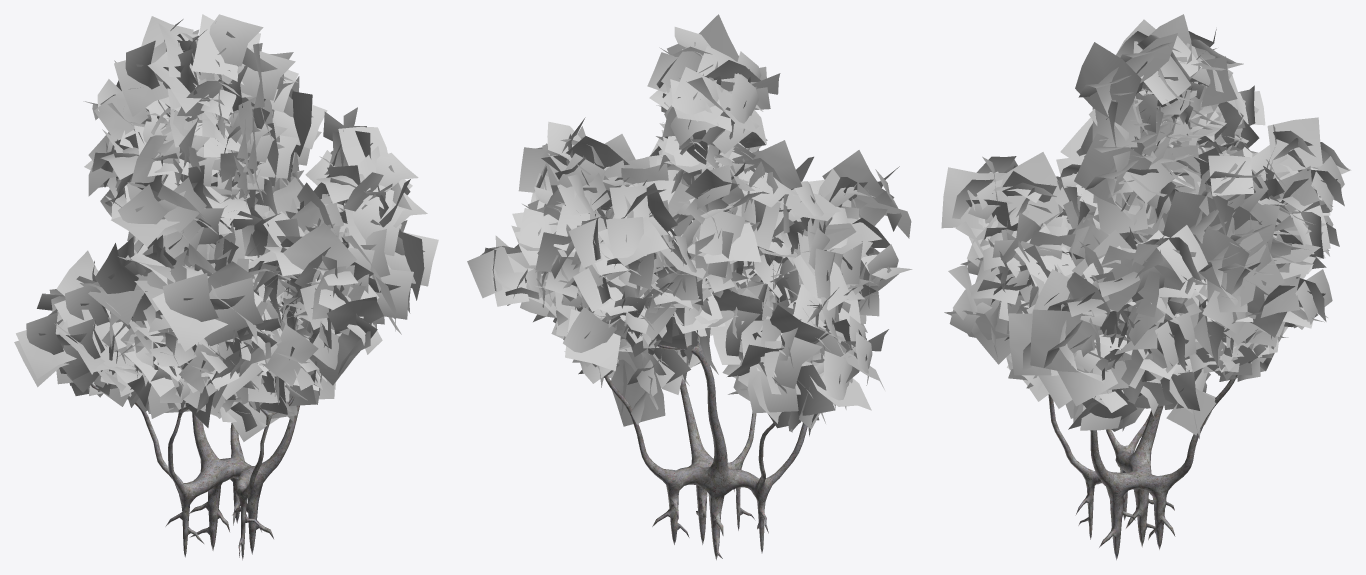
The model's file is Tree17.fbx.
3 views of the same model, side by side, from view 1: azimuth 30°, elevation 25°; view 2: azimuth 150°, elevation 25°; view 3: azimuth 270°, elevation 25° (orthographic).
Parts seen in each view (by area): view 1: tree17, tree17|branch17-3|Dupli|15, tree17|branch17-3|Dupli|78, tree17|branch17-2|Dupli|193, tree17|branch17-3|Dupli|150, tree17|branch17-3|Dupli|57, tree17|branch17-3|Dupli|171, tree17|branch17-3|Dupli|117, tree17|branch17-2|Dupli|16, tree17|branch17-3|Dupli|153, tree17|branch17-1|Dupli|2, tree17|branch17-1|Dupli|164 (+48 smaller); view 2: tree17, tree17|branch17-2|Dupli|172, tree17|branch17-3|Dupli|24, tree17|branch17-1|Dupli|32, tree17|branch17-1|Dupli|53, tree17|branch17-2|Dupli|130, tree17|branch17-3|Dupli|27, tree17|branch17-2|Dupli|175, tree17|branch17-3|Dupli|153, tree17|branch17-3|Dupli|51, tree17|branch17-3|Dupli|48, tree17|branch17-1|Dupli|125 (+49 smaller); view 3: tree17, tree17|branch17-3|Dupli|78, tree17|branch17-3|Dupli|117, tree17|branch17-1|Dupli|2, tree17|branch17-3|Dupli|3, tree17|branch17-2|Dupli|193, tree17|branch17-1|Dupli|53, tree17|branch17-1|Dupli|71, tree17|branch17-3|Dupli|33, tree17|branch17-3|Dupli|24, tree17|branch17-3|Dupli|60, tree17|branch17-2|Dupli|16 (+42 smaller).
Part boxes in pixels (left/top/right/bottom): tree17: left=91, top=383, right=299, bottom=560; tree17|branch17-3|Dupli|15: left=152, top=269, right=274, bottom=351; tree17|branch17-3|Dupli|78: left=191, top=14, right=295, bottom=139; tree17|branch17-2|Dupli|193: left=285, top=280, right=383, bottom=385; tree17|branch17-3|Dupli|150: left=111, top=177, right=213, bottom=255; tree17|branch17-3|Dupli|57: left=114, top=40, right=233, bottom=125; tree17|branch17-3|Dupli|171: left=16, top=312, right=125, bottom=384; tree17|branch17-3|Dupli|117: left=344, top=202, right=438, bottom=313; tree17|branch17-2|Dupli|16: left=283, top=223, right=358, bottom=348; tree17|branch17-3|Dupli|153: left=88, top=238, right=176, bottom=324; tree17|branch17-1|Dupli|2: left=305, top=107, right=388, bottom=185; tree17|branch17-1|Dupli|164: left=150, top=332, right=222, bottom=400; tree17: left=605, top=334, right=807, bottom=560; tree17|branch17-2|Dupli|172: left=761, top=305, right=835, bottom=429; tree17|branch17-3|Dupli|24: left=598, top=185, right=668, bottom=266; tree17|branch17-1|Dupli|32: left=608, top=347, right=674, bottom=426; tree17|branch17-1|Dupli|53: left=467, top=235, right=556, bottom=317; tree17|branch17-2|Dupli|130: left=741, top=140, right=802, bottom=250; tree17|branch17-3|Dupli|27: left=670, top=45, right=760, bottom=131; tree17|branch17-2|Dupli|175: left=722, top=344, right=801, bottom=432; tree17|branch17-3|Dupli|153: left=771, top=218, right=856, bottom=310; tree17|branch17-3|Dupli|51: left=692, top=179, right=769, bottom=263; tree17|branch17-3|Dupli|48: left=563, top=307, right=621, bottom=371; tree17|branch17-1|Dupli|125: left=685, top=157, right=756, bottom=233; tree17: left=1048, top=341, right=1244, bottom=560; tree17|branch17-3|Dupli|78: left=1075, top=33, right=1177, bottom=155; tree17|branch17-3|Dupli|117: left=1030, top=274, right=1128, bottom=406; tree17|branch17-1|Dupli|2: left=1123, top=225, right=1208, bottom=322; tree17|branch17-3|Dupli|3: left=1074, top=123, right=1170, bottom=234; tree17|branch17-2|Dupli|193: left=944, top=261, right=1031, bottom=364; tree17|branch17-1|Dupli|53: left=1246, top=269, right=1332, bottom=337; tree17|branch17-1|Dupli|71: left=1115, top=312, right=1196, bottom=388; tree17|branch17-3|Dupli|33: left=1202, top=232, right=1315, bottom=345; tree17|branch17-3|Dupli|24: left=1250, top=117, right=1351, bottom=180; tree17|branch17-3|Dupli|60: left=1199, top=224, right=1273, bottom=319; tree17|branch17-2|Dupli|16: left=983, top=212, right=1075, bottom=306.
Size of the model in its own units: 1923 by 2651 by 1899.
